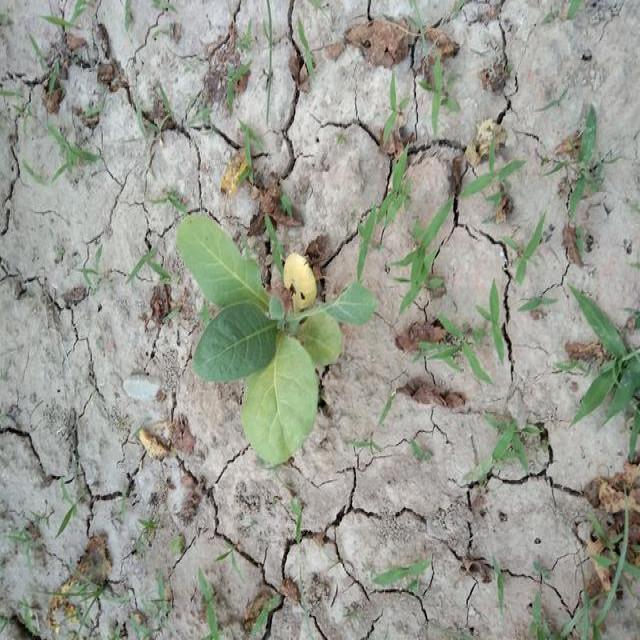crop: (178, 200, 368, 464)
